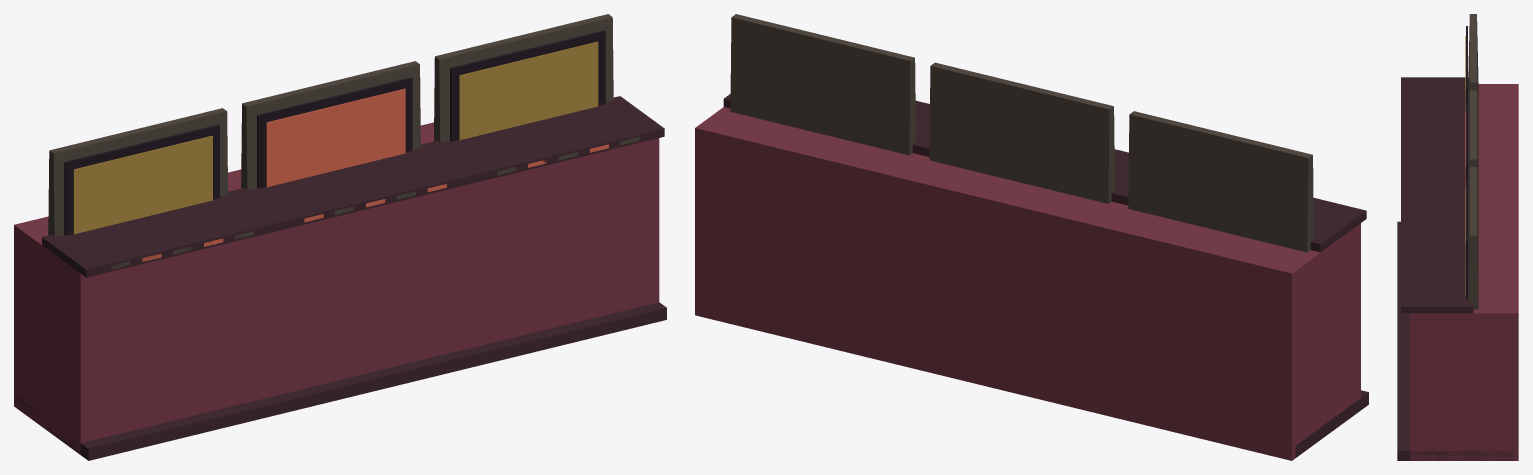
File: criminal_console_bank.glb
3 renders of one model, left to right at view 1: azimuth 30°, elevation 25°; view 2: azimuth 150°, elevation 25°; view 3: azimuth 270°, elevation 25°, orthographic. The views are drawn at different scales.
Parts seen in each view (by area): view 1: criminal_console_bank; view 2: criminal_console_bank; view 3: criminal_console_bank.
Boxes of the visible parts, box(x1,y1,x2,y2) form: criminal_console_bank: box(14, 14, 666, 460); criminal_console_bank: box(695, 14, 1368, 460); criminal_console_bank: box(1397, 14, 1518, 460).
Size of the model in its own units: 3 by 1.35 by 0.67.
